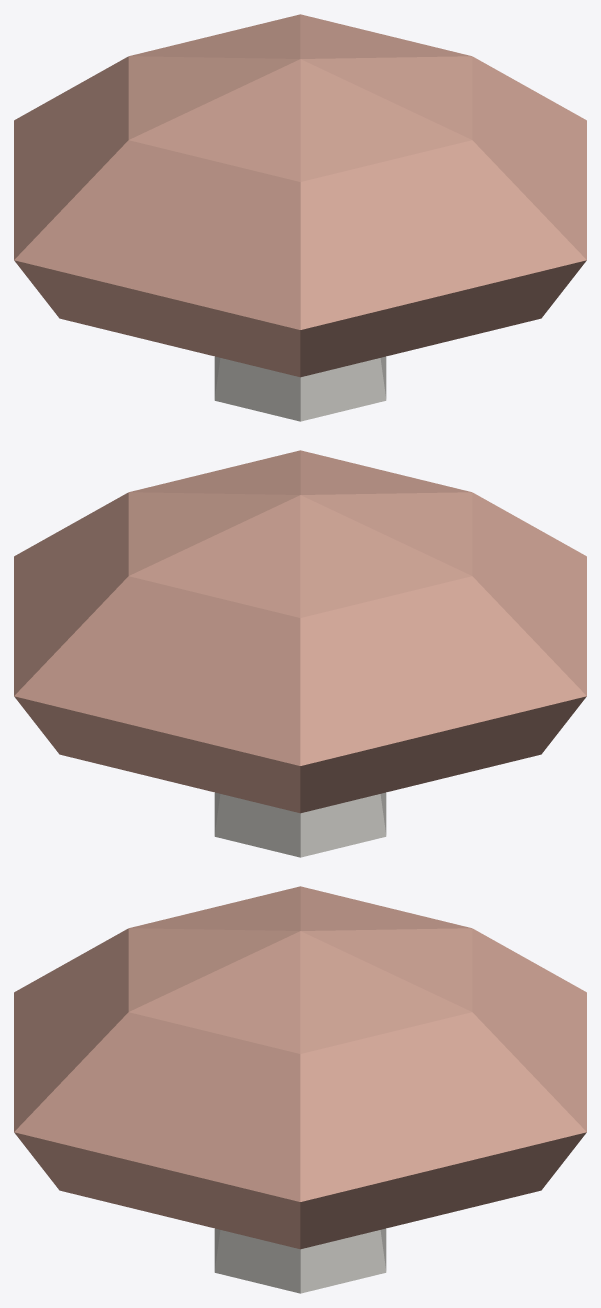
Rendered from Prop_Mushroom_2.glb.
3 renders of one model, top to bottom at view 1: azimuth 30°, elevation 25°; view 2: azimuth 150°, elevation 25°; view 3: azimuth 270°, elevation 25°, orthographic.
Visible parts, largest first — view 1: Prop_Mushroom_2_Merged; view 2: Prop_Mushroom_2_Merged; view 3: Prop_Mushroom_2_Merged.
Part boxes in pixels (<box>): Prop_Mushroom_2_Merged: <box>14,14,586,421</box>; Prop_Mushroom_2_Merged: <box>14,450,586,857</box>; Prop_Mushroom_2_Merged: <box>14,886,586,1293</box>.
Size of the model in its own units: 0.5 by 0.2674 by 0.433.
